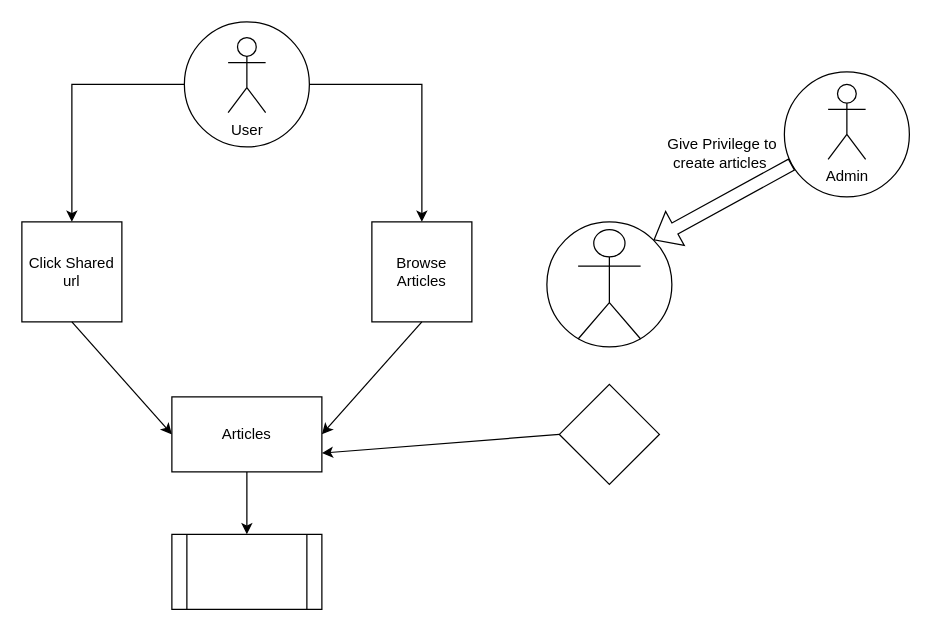
The diagram is 931 pixels wide and 631 high, and some of its shapes have lost their labels. The shapes that lost their labels are listed below. From the top down, each one's centre as x and y in pixels, then its label:
At (609,283): "Writer/journalist".
At (608,433): "Create Articles".
At (246,571): "Read Articles".
